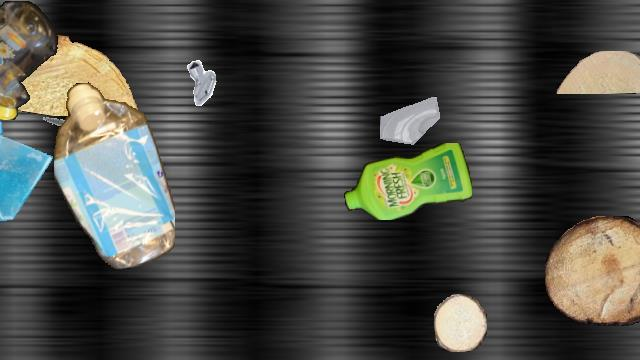glass: (0, 133, 59, 225), (380, 96, 442, 158), (0, 76, 7, 164)
metal: (180, 57, 228, 105), (38, 104, 82, 148)
plastic: (54, 81, 174, 269), (344, 143, 472, 219), (0, 1, 59, 119)
wood: (0, 35, 149, 115), (545, 216, 640, 326), (556, 51, 640, 93), (434, 294, 486, 352)
